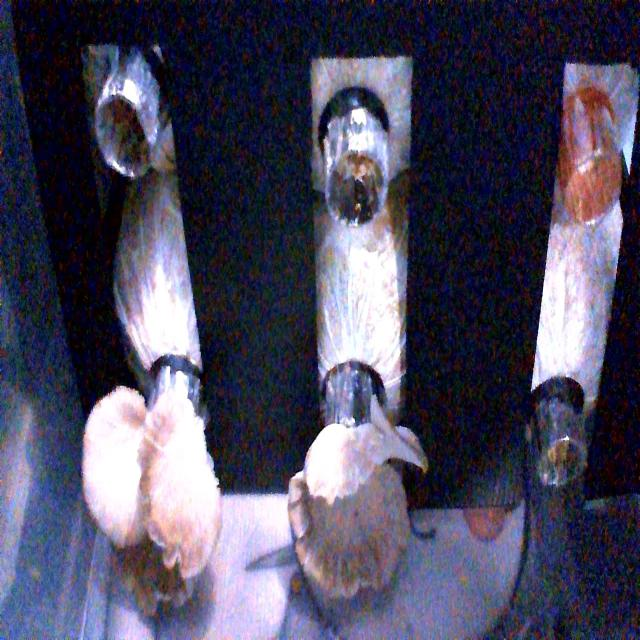big: (75, 372, 227, 606), (282, 397, 437, 606)
nfound: (82, 70, 167, 194), (322, 125, 404, 228), (522, 406, 595, 502), (567, 134, 624, 231), (549, 141, 555, 157)
